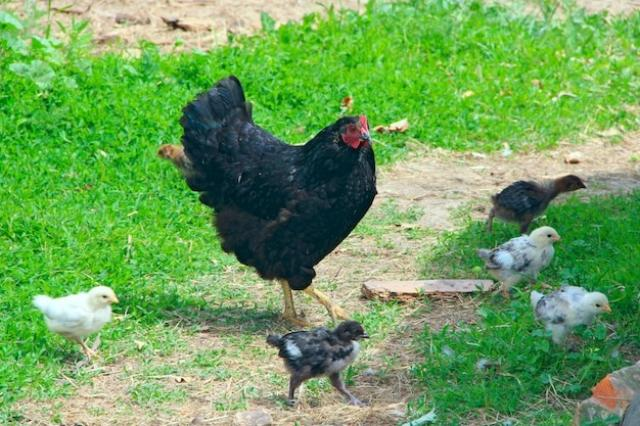Chicken: (182, 74, 376, 321)
